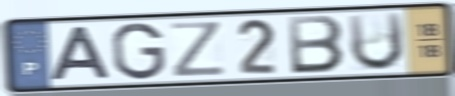2: (236, 17, 278, 76)
A: (47, 24, 114, 84)
B: (285, 13, 347, 76)
G: (110, 20, 169, 82)
U: (345, 10, 407, 74)
Z: (168, 19, 229, 79)
